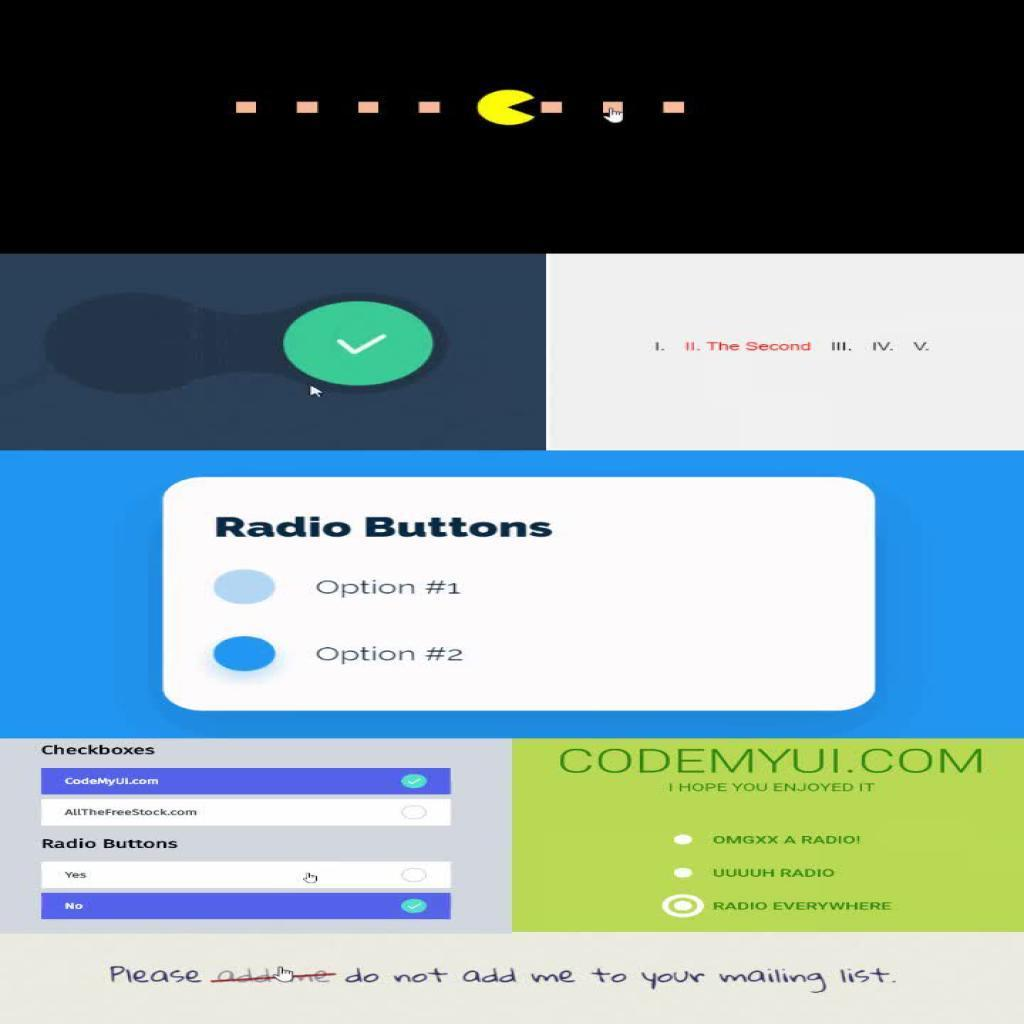checkbox: (402, 773, 428, 792), (401, 898, 427, 917), (401, 866, 427, 884), (402, 805, 427, 821)
label: (316, 644, 470, 669), (317, 578, 466, 600), (714, 899, 895, 917), (64, 806, 203, 820), (712, 834, 865, 846), (713, 868, 838, 880), (62, 776, 162, 791), (62, 871, 89, 882), (63, 902, 85, 912)
radio: (210, 633, 280, 677), (211, 570, 279, 606), (661, 894, 709, 920), (671, 868, 697, 883), (673, 834, 696, 848)
